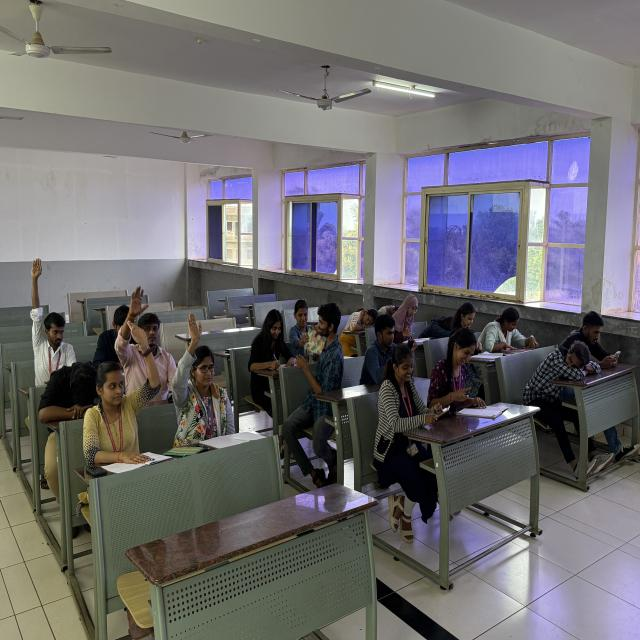Hand Rising: (91, 316, 156, 455), (173, 308, 223, 441), (26, 250, 77, 378), (116, 283, 171, 388)
Reading: (429, 324, 501, 421)
Sleeping: (34, 358, 105, 433), (518, 337, 604, 398), (342, 302, 382, 346)
Using Phone: (379, 346, 456, 434), (477, 305, 543, 359), (572, 304, 626, 370)
Writing: (246, 307, 300, 387), (389, 294, 426, 346)
